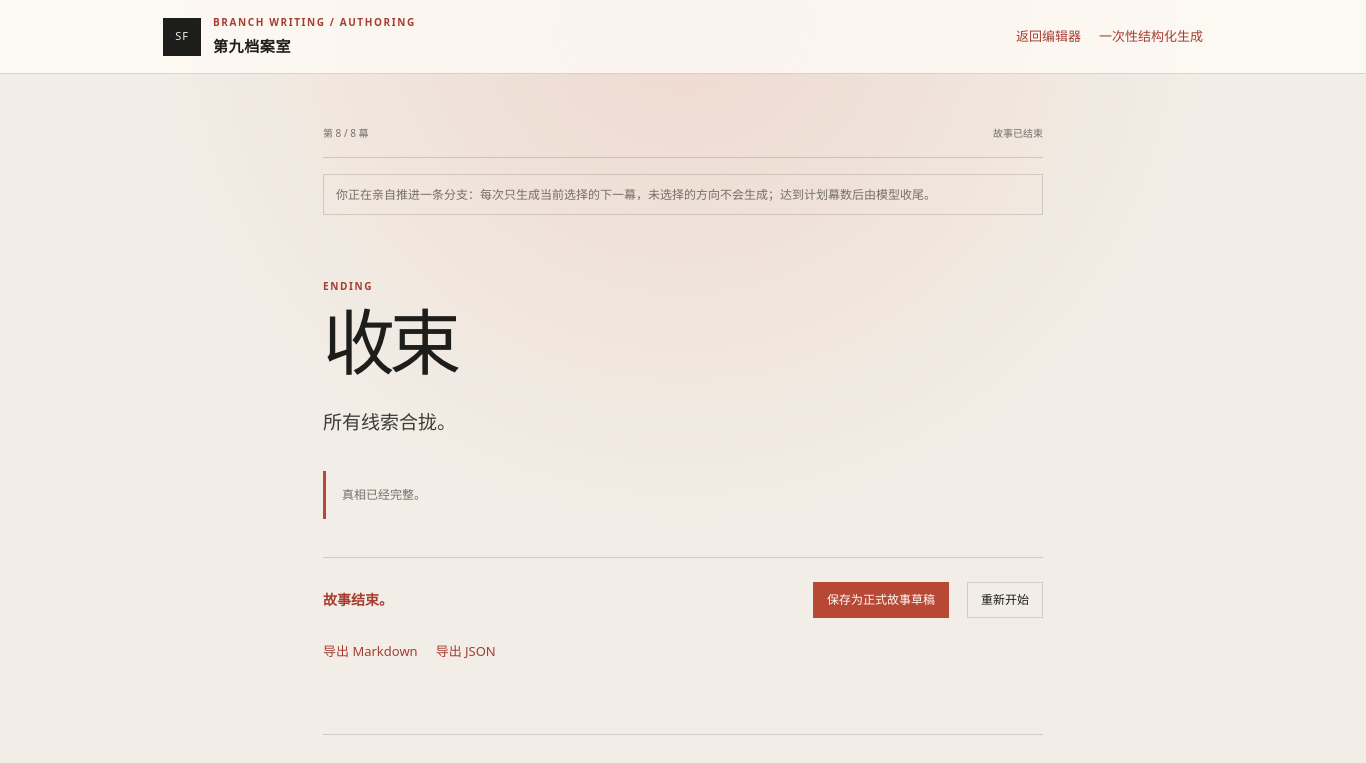
Test: InteractivePlayer › offers to save an ended selected path as a formal draft
The image size is (1366, 763).
Click the button "保存为正式故事草稿". click: (881, 600)
box: [813, 582, 949, 618]
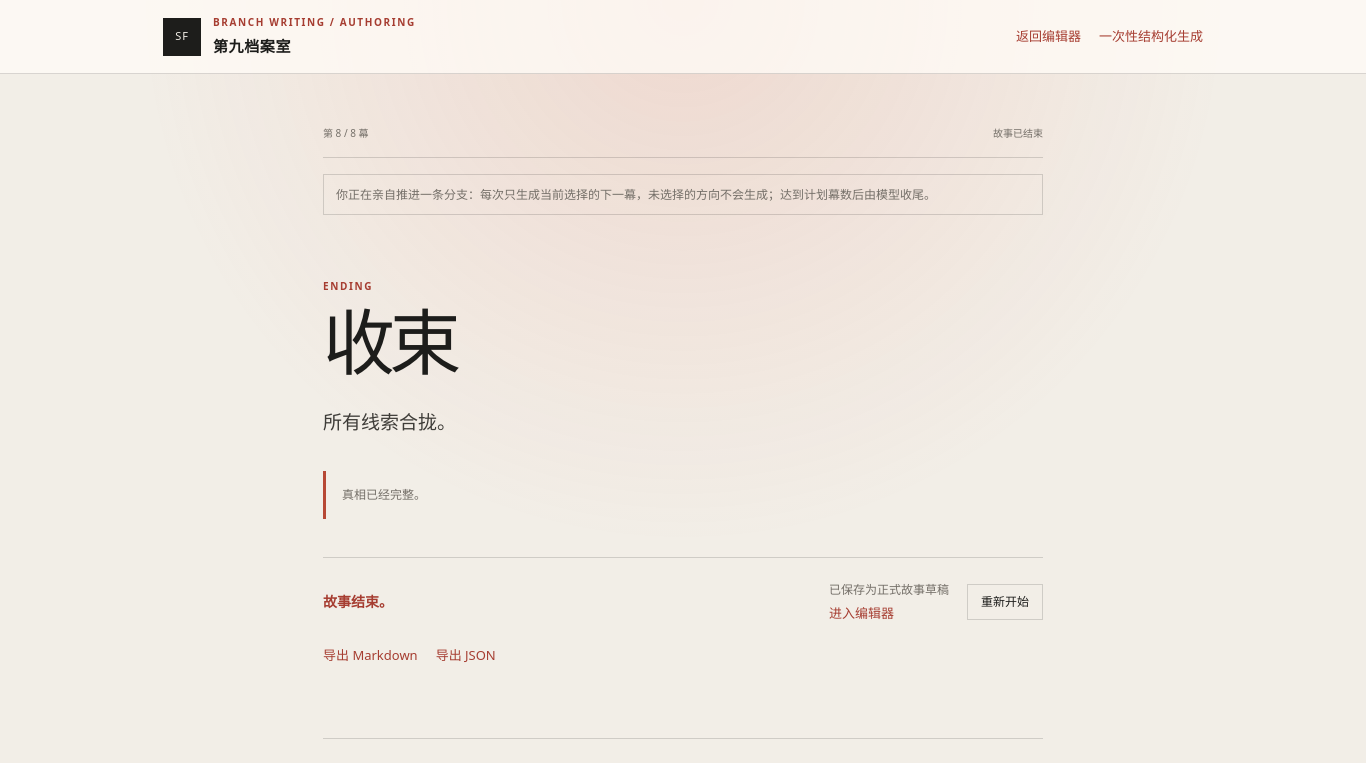
Expected: the text "已保存为正式故事草稿" is shown, [829, 582, 949, 599]
